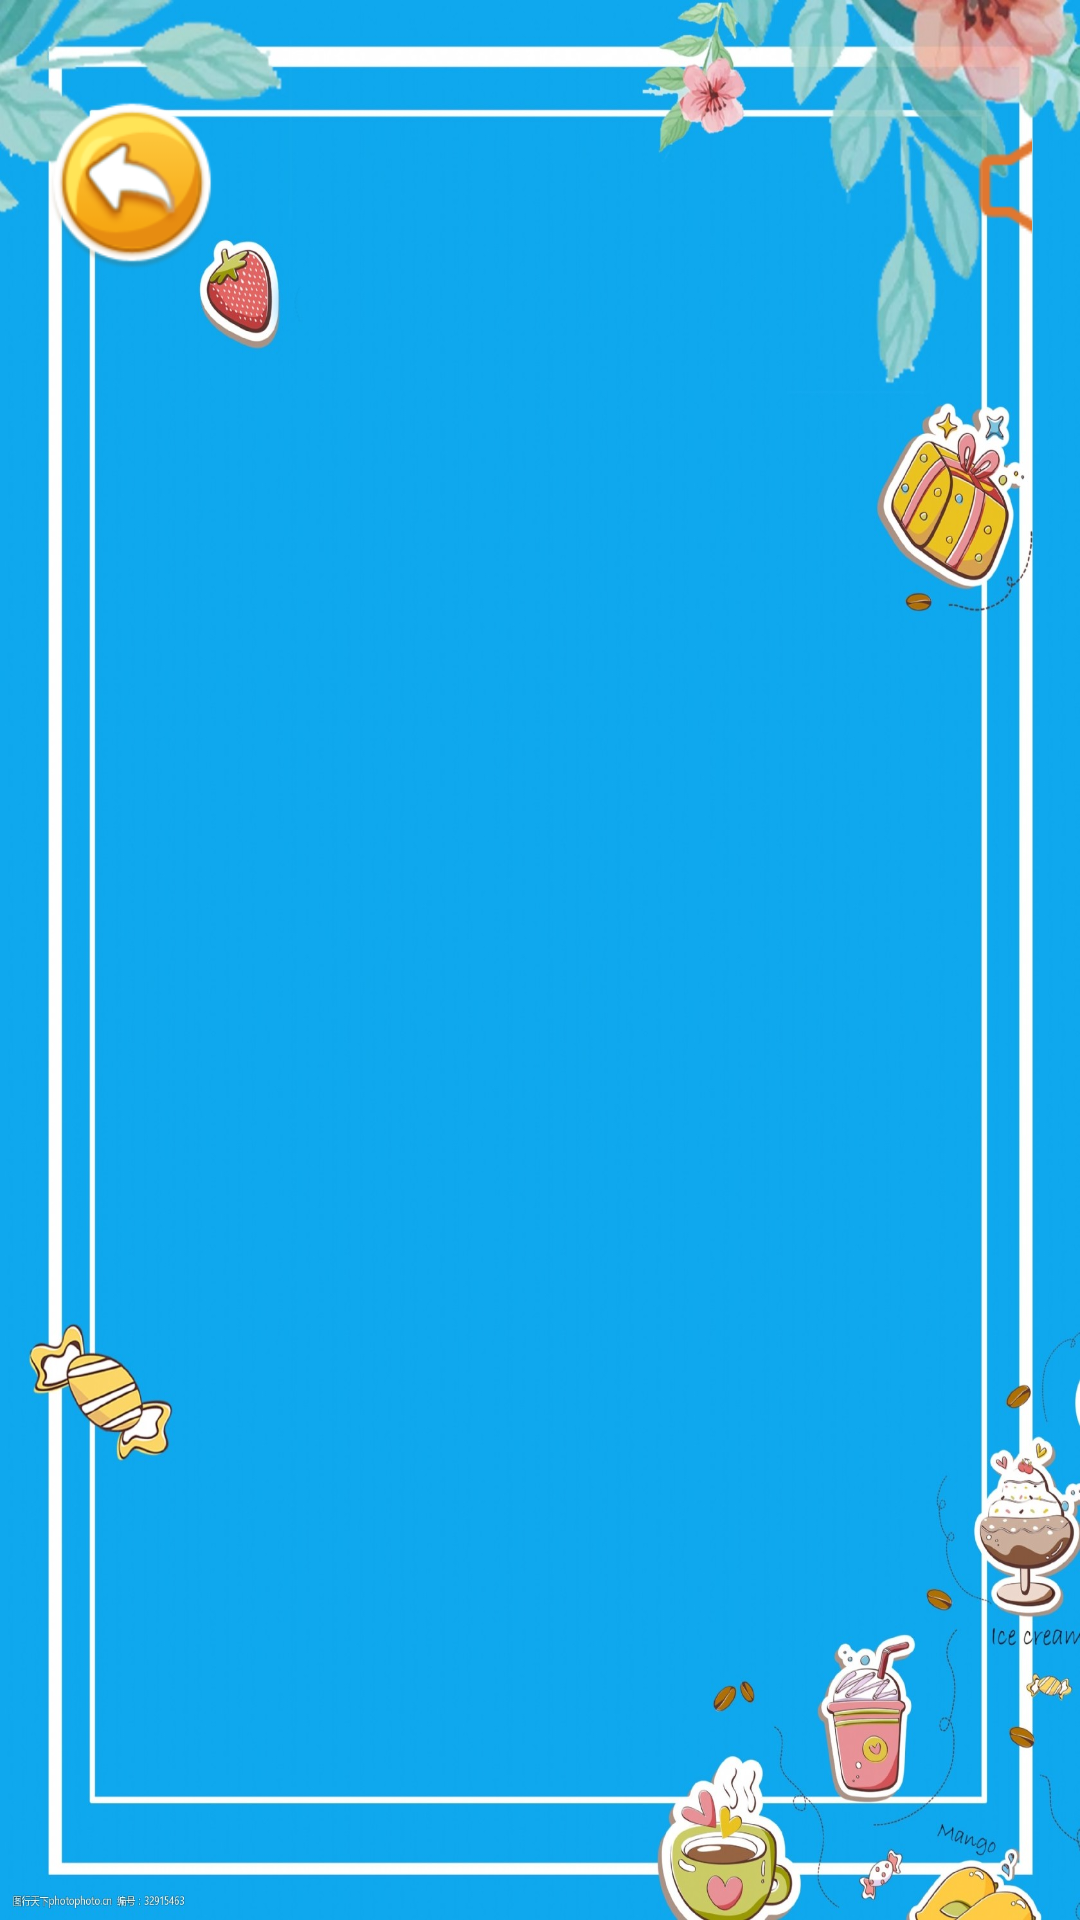

Icons on this 1080x1920 Android screen, each with the point to tap as (x,y):
fanhui: (132,186)
